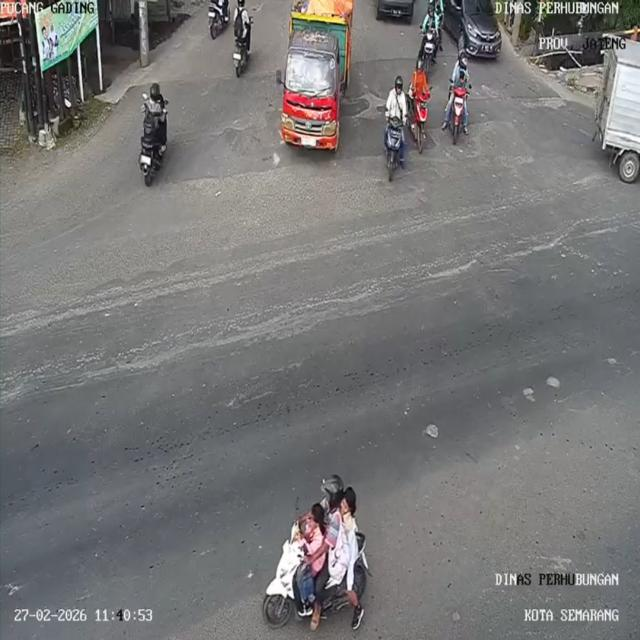motorcycle: (257, 520, 368, 625), (378, 112, 407, 181), (137, 130, 165, 188), (448, 87, 472, 140), (412, 90, 431, 148), (228, 38, 253, 80), (205, 2, 229, 41), (420, 29, 440, 70)
person: (313, 472, 343, 579), (296, 498, 327, 592), (332, 484, 361, 570), (141, 82, 168, 141), (382, 76, 408, 125), (228, 0, 252, 46), (419, 6, 443, 39), (451, 51, 472, 88), (411, 62, 429, 95), (456, 73, 471, 98)
rider_region: (263, 472, 371, 625), (135, 79, 170, 191), (381, 74, 407, 182), (447, 47, 473, 142), (409, 58, 432, 156), (420, 0, 445, 74), (231, 0, 253, 77)
